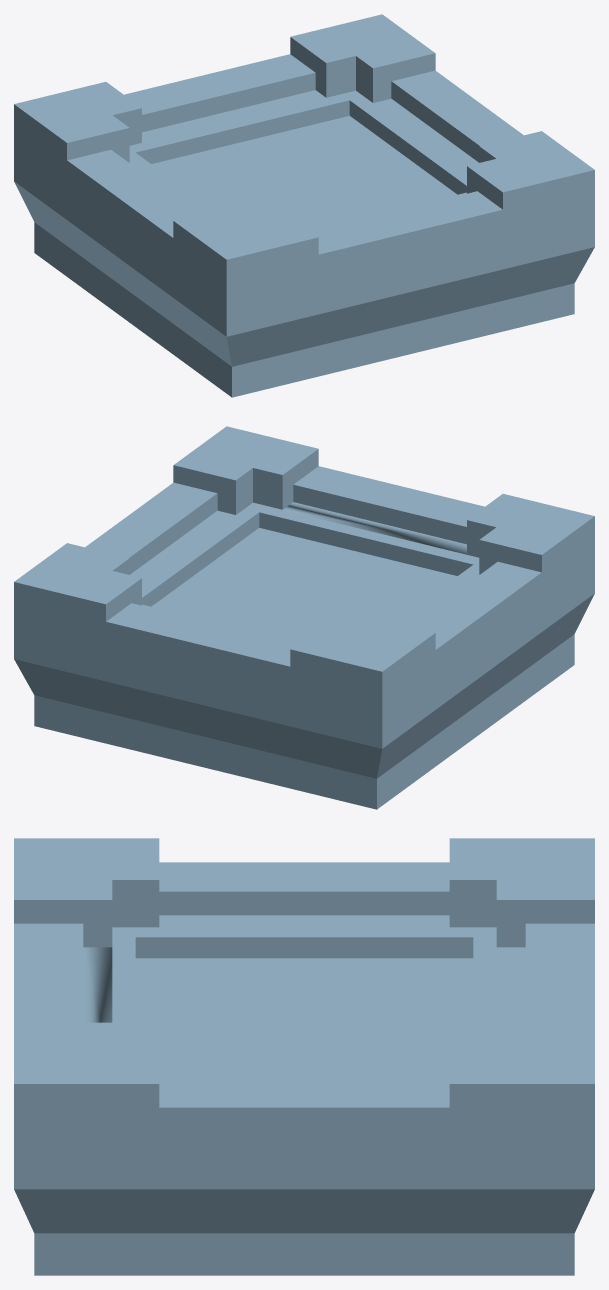
Rendered from towerSquareTopColor.fbx.
3 renders of one model, top to bottom at view 1: azimuth 30°, elevation 25°; view 2: azimuth 150°, elevation 25°; view 3: azimuth 270°, elevation 25°, orthographic. The views are drawn at different scales.
Parts seen in each view (by area): view 1: towerSquareTopColor; view 2: towerSquareTopColor; view 3: towerSquareTopColor.
Boxes of the visible parts, x1,y1,x2,y2 form: towerSquareTopColor: (14, 14, 594, 397); towerSquareTopColor: (14, 426, 594, 809); towerSquareTopColor: (14, 838, 594, 1275).
Size of the model in its own units: 300 by 114 by 300.
